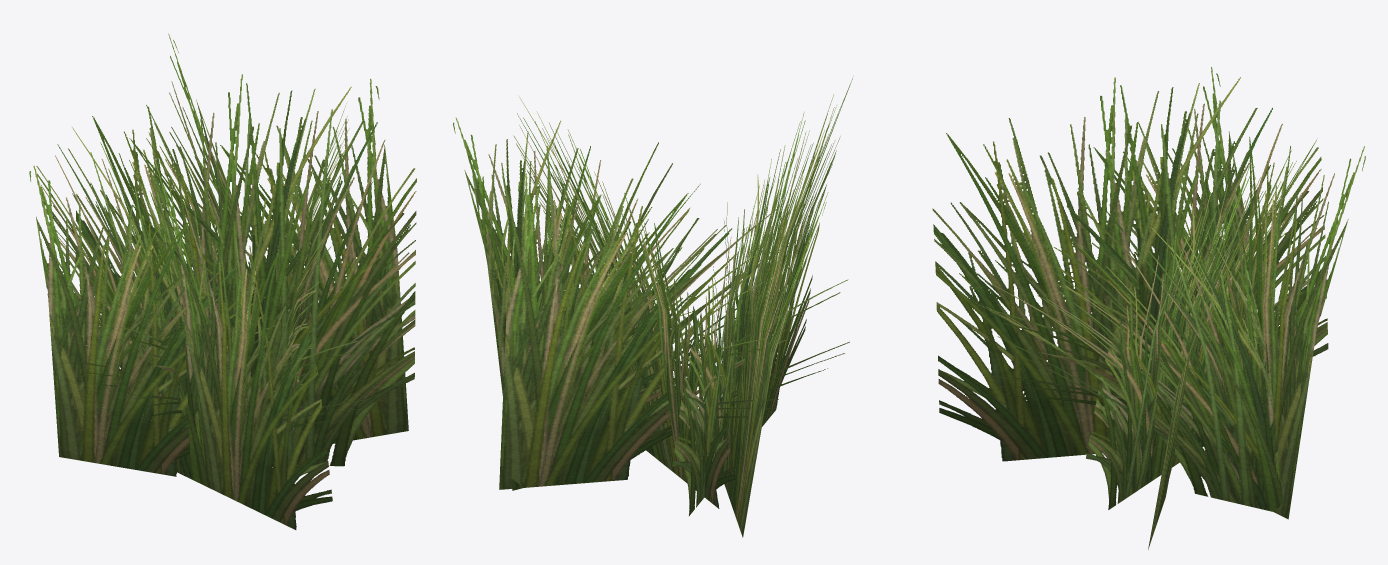
Rendered from grass_tuft.glb.
3 renders of one model, left to right at view 1: azimuth 30°, elevation 25°; view 2: azimuth 150°, elevation 25°; view 3: azimuth 270°, elevation 25°, orthographic. The views are drawn at different scales.
Visible parts, largest first — view 1: grass_tuft; view 2: grass_tuft; view 3: grass_tuft.
Boxes of the visible parts, x1,y1,x2,y2 form: grass_tuft: (29, 33, 416, 529); grass_tuft: (453, 76, 853, 537); grass_tuft: (932, 67, 1365, 549).
Size of the model in its own units: 0.4692 by 0.4194 by 0.473.
Materials: 1 (1 with a texture image).
